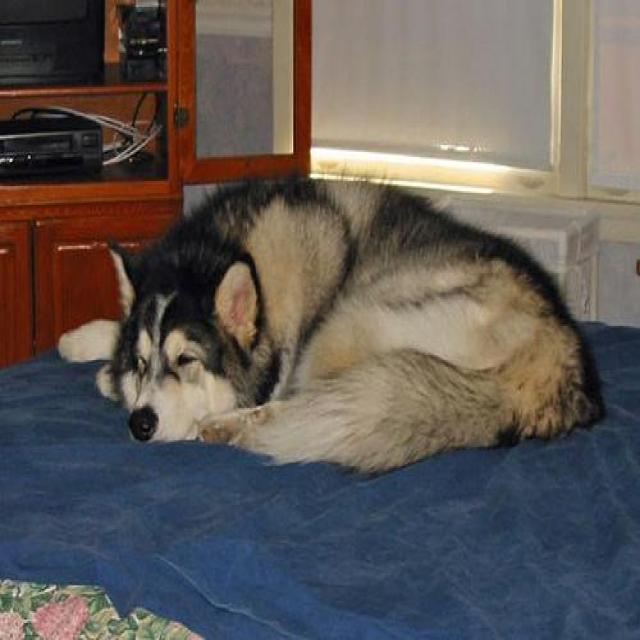relax: (66, 162, 626, 448)
